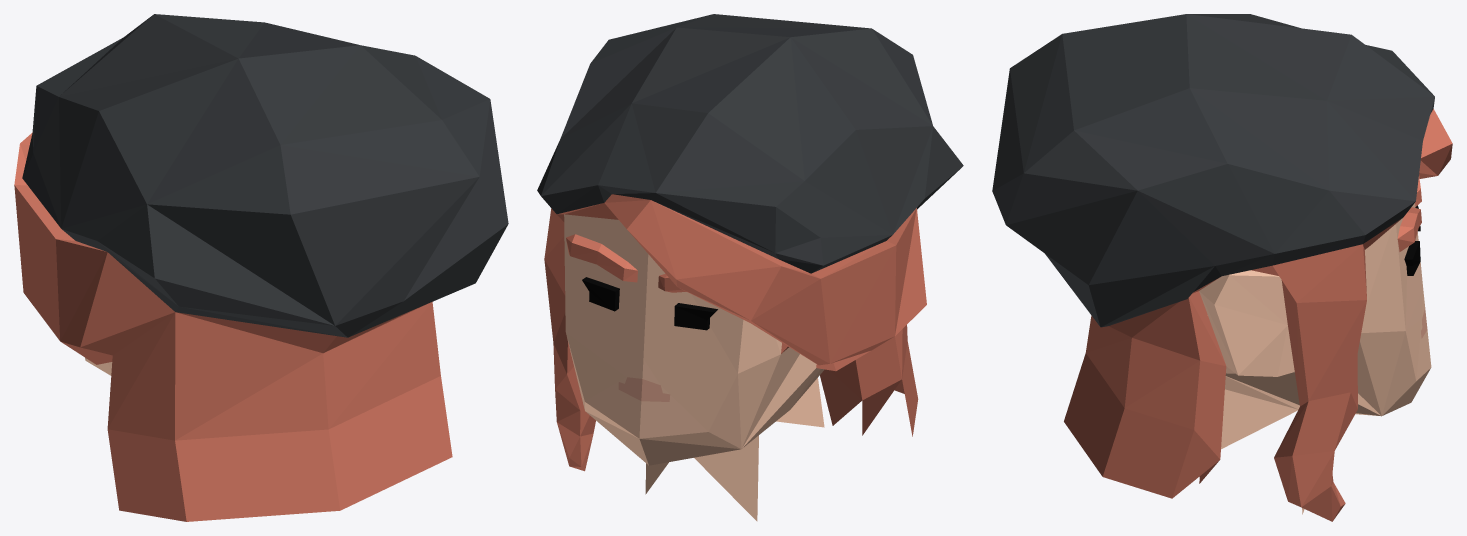
File: Daughter_01_Head_0_01_A.obj
The picture shows the model from 3 angles, left to right: view 1: azimuth 30°, elevation 25°; view 2: azimuth 150°, elevation 25°; view 3: azimuth 270°, elevation 25°; orthographic projection. The views are drawn at different scales.
Visible parts, largest first — view 1: Daughter_01_Head_0_01_A; view 2: Daughter_01_Head_0_01_A; view 3: Daughter_01_Head_0_01_A.
Boxes of the visible parts, x1,y1,x2,y2 form: Daughter_01_Head_0_01_A: (14, 14, 508, 521); Daughter_01_Head_0_01_A: (537, 14, 963, 521); Daughter_01_Head_0_01_A: (992, 14, 1452, 521).
Bounding box in the file's own units: 0.3305 × 0.401 × 0.367.
1 material, 1 textured.
